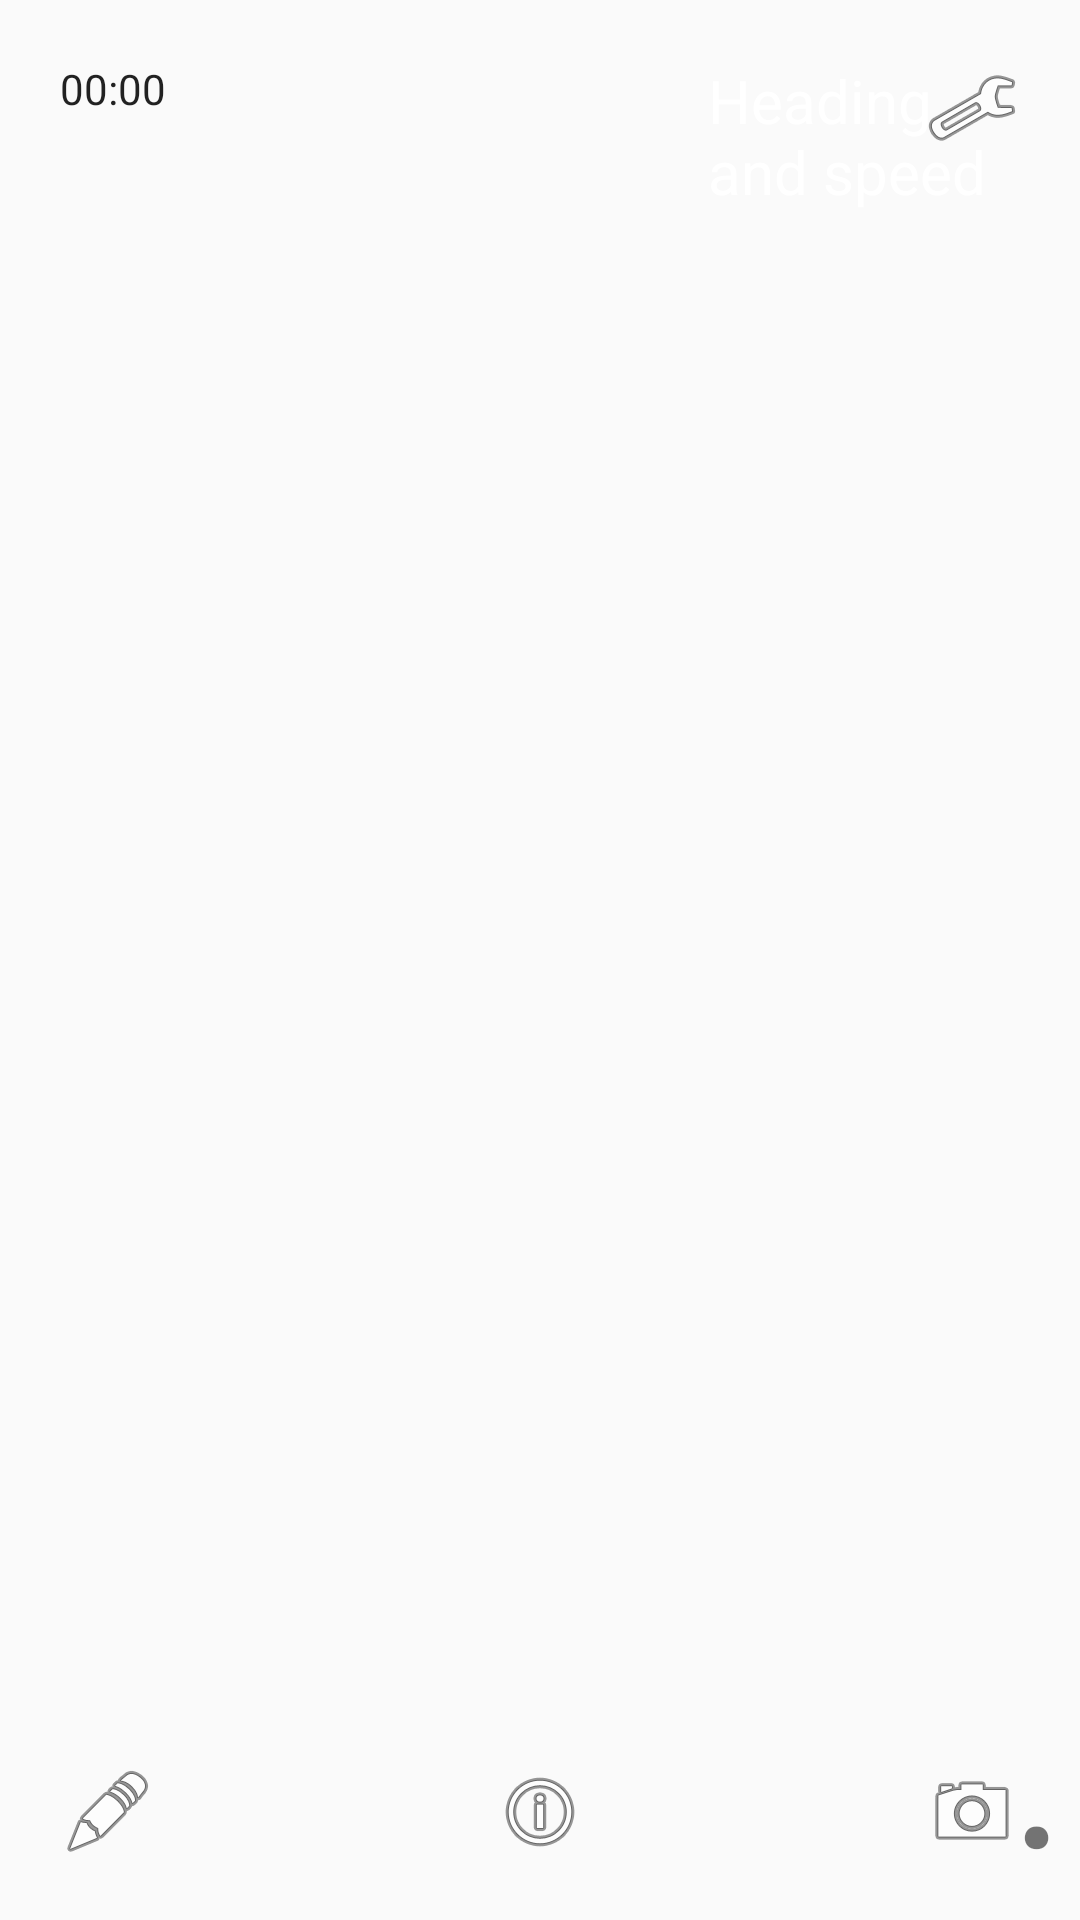

Icons on this 1080 × 1920 Android screen, each with its box as [x1, y1, x2, y2]:
camera: [935, 1781, 1049, 1849]
edit: [67, 1771, 148, 1852]
info details: [505, 1777, 575, 1847]
manage: [929, 75, 1015, 141]
